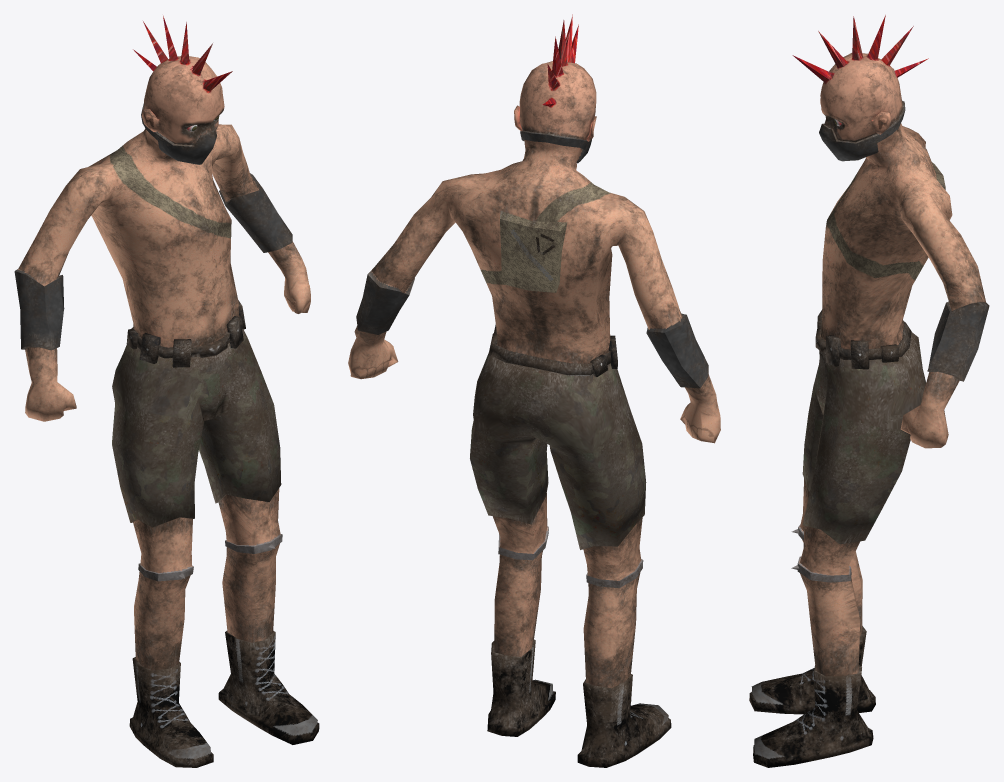
File: Anim_recibirdanyo_1_npc2.0026.obj
3 views of the same model, side by side, from view 1: azimuth 30°, elevation 25°; view 2: azimuth 150°, elevation 25°; view 3: azimuth 270°, elevation 25° (orthographic). The views are drawn at different scales.
Visible parts, largest first — view 1: polySurface1; view 2: polySurface1; view 3: polySurface1.
Boxes of the visible parts, x1,y1,x2,y2 form: polySurface1: (14, 15, 319, 767); polySurface1: (348, 14, 720, 767); polySurface1: (749, 15, 989, 767).
Size of the model in its own units: 4.75 by 10.03 by 3.08.
Materials: 2 (2 with a texture image).
